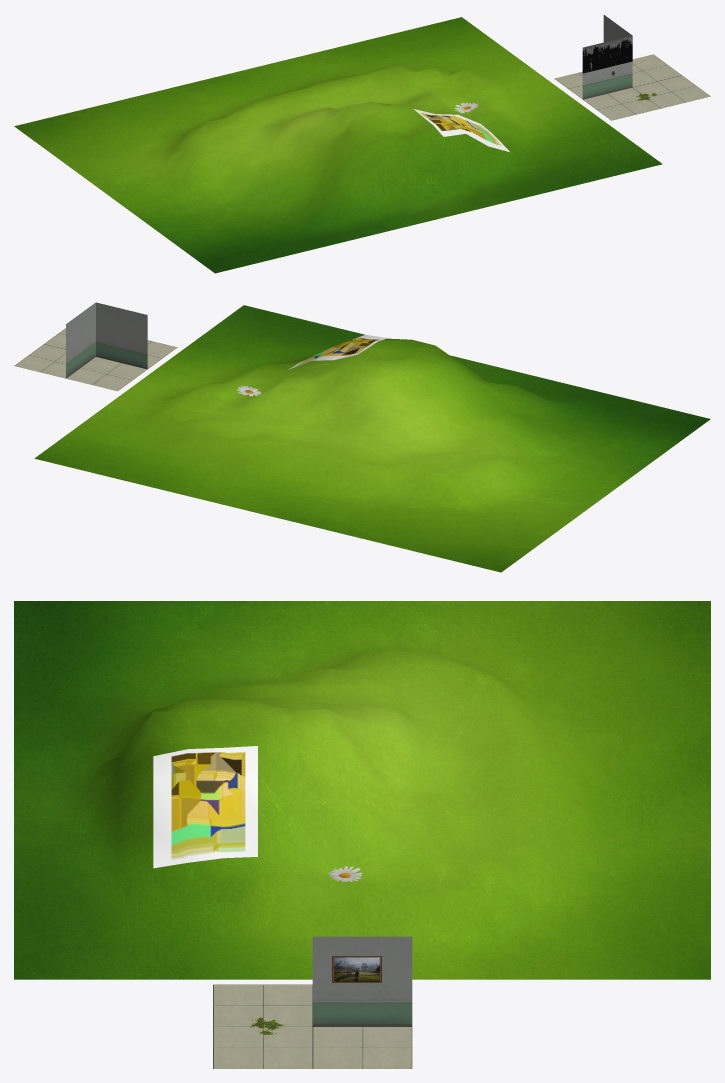
File: decals.obj
3 renders of one model, top to bottom at view 1: azimuth 30°, elevation 25°; view 2: azimuth 150°, elevation 25°; view 3: azimuth 270°, elevation 25°, orthographic. The views are drawn at different scales.
Visible parts, largest first — view 1: Plane006, Plane007, Object001, Plane003, Plane001, Plane002; view 2: Plane006, Plane007, Plane001, Plane002, Object001; view 3: Plane006, Plane007, Object001, Plane002, Plane005.
Boxes of the visible parts, left/top/right/bottom form: Plane006: left=14, top=17, right=662, bottom=273; Plane007: left=554, top=54, right=710, bottom=120; Object001: left=414, top=102, right=509, bottom=152; Plane003: left=582, top=35, right=632, bottom=73; Plane001: left=582, top=61, right=632, bottom=99; Plane002: left=603, top=15, right=631, bottom=42; Plane006: left=34, top=305, right=710, bottom=572; Plane007: left=14, top=328, right=177, bottom=391; Plane001: left=96, top=302, right=147, bottom=369; Plane002: left=66, top=302, right=95, bottom=378; Object001: left=237, top=334, right=387, bottom=396; Plane006: left=14, top=601, right=710, bottom=979; Plane007: left=213, top=984, right=412, bottom=1068; Object001: left=153, top=746, right=362, bottom=881; Plane002: left=312, top=936, right=412, bottom=1026; Plane005: left=332, top=956, right=381, bottom=982.
Size of the model in its own units: 1112 by 100 by 700.
